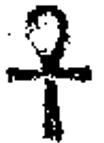Ankh: (3, 2, 96, 142)
